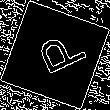P_SW: (24, 28, 86, 82)
